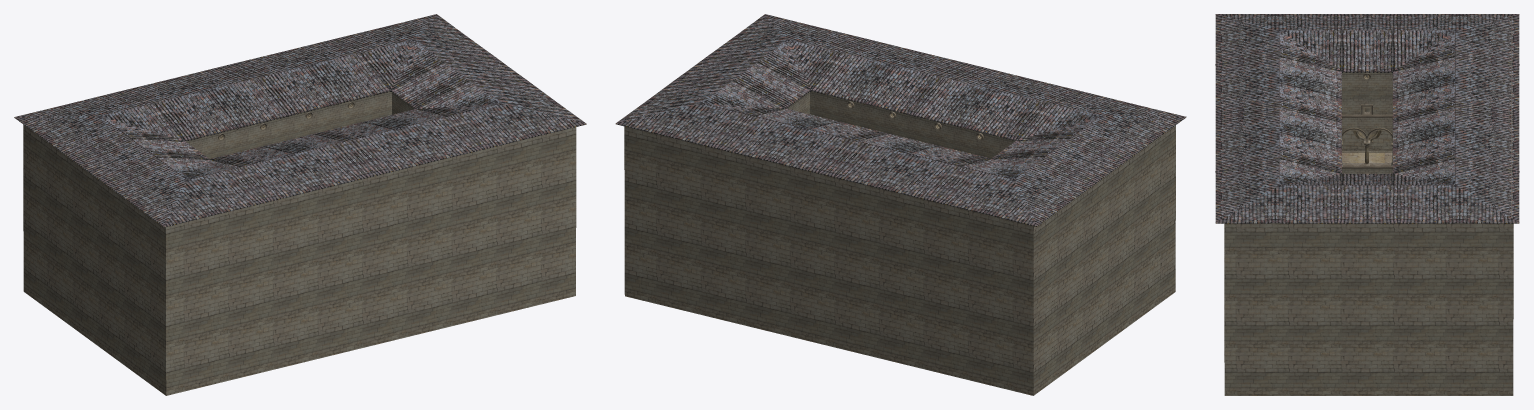
The model's file is SponzaReduced.gltf.
3 renders of one model, left to right at view 1: azimuth 30°, elevation 25°; view 2: azimuth 150°, elevation 25°; view 3: azimuth 270°, elevation 25°, orthographic.
Visible parts, largest first — view 1: Sponza; view 2: Sponza; view 3: Sponza.
Part boxes in pixels (left/top/right/bottom): Sponza: left=14, top=14, right=586, bottom=395; Sponza: left=615, top=14, right=1186, bottom=395; Sponza: left=1215, top=14, right=1519, bottom=395.
Size of the model in its own units: 29.77 by 12.45 by 18.31.
13 materials, 13 textured.
